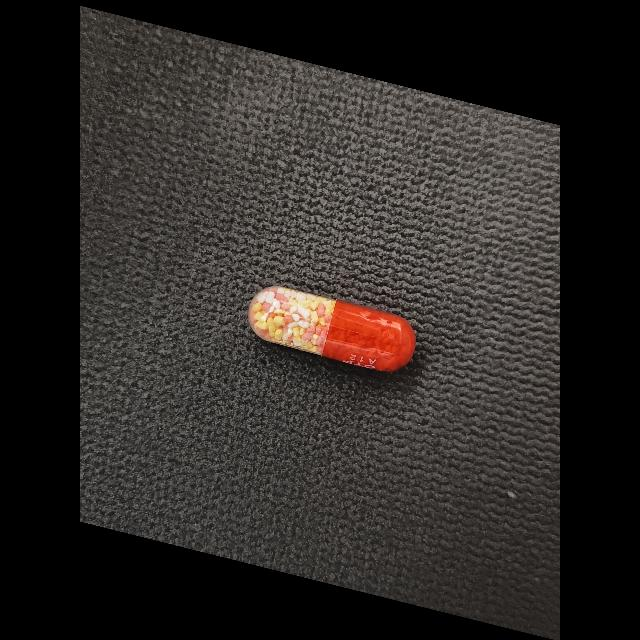Intact Capsule: (248, 286, 416, 372)
